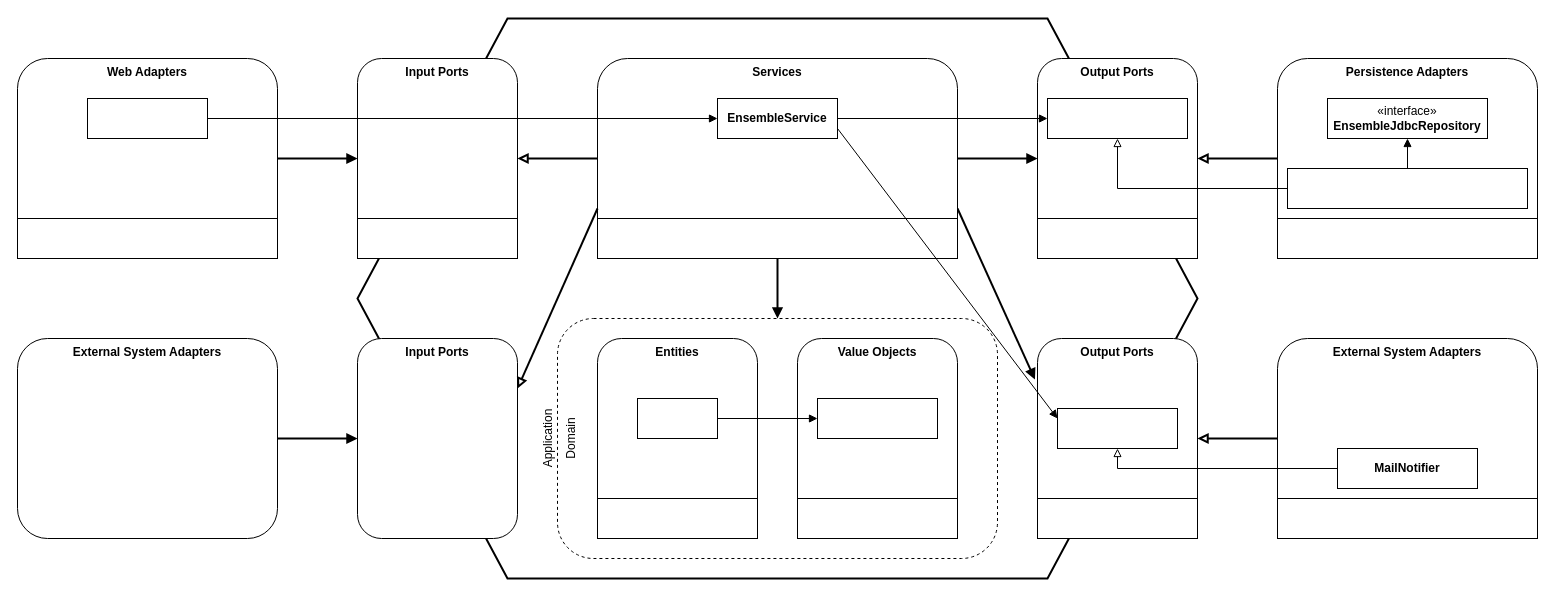
Image size: 1555x596. Some labels were removed from this diagram. Each missing label, with the centre of its shape:
"adapter.in.web" belongs at [147,238].
"Ensemble" belongs at [677,418].
"EnsembleRepositoryDataJdbcAdapter" belongs at [1407,188].
"EnsembleState" belongs at [877,418].
"MemberController" belongs at [147,118].
"«interface» EnsembleRepository" belongs at [1117,118].
"«interface» Notifier" belongs at [1117,428].
